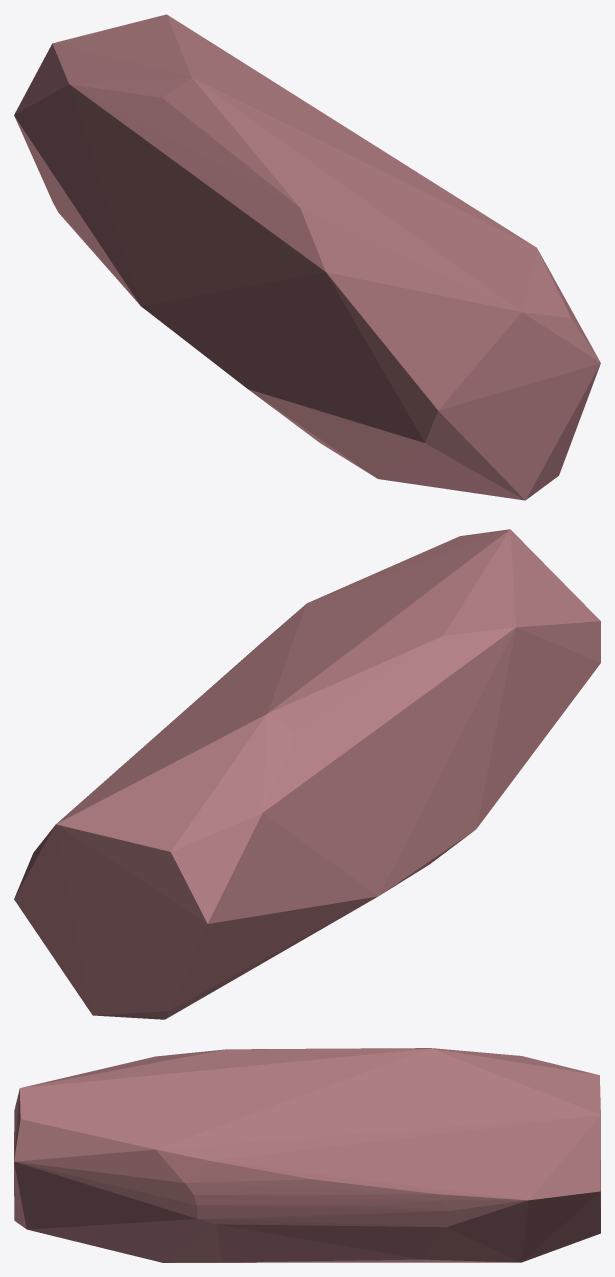
Rendered from bottle_laboratory_a02.glb.
3 views of the same model, one above another, from view 1: azimuth 30°, elevation 25°; view 2: azimuth 150°, elevation 25°; view 3: azimuth 270°, elevation 25° (orthographic). The views are drawn at different scales.
Parts seen in each view (by area): view 1: geometry_0; view 2: geometry_0; view 3: geometry_0.
Part boxes in pixels (x1=…): geometry_0: x1=14, y1=14, x2=600, y2=500; geometry_0: x1=14, y1=529, x2=600, y2=1019; geometry_0: x1=14, y1=1048, x2=600, y2=1262.
Bounding box in the file's own units: 0.1689 × 0.1673 × 0.48.
